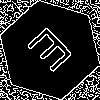E: (25, 25, 82, 81)
